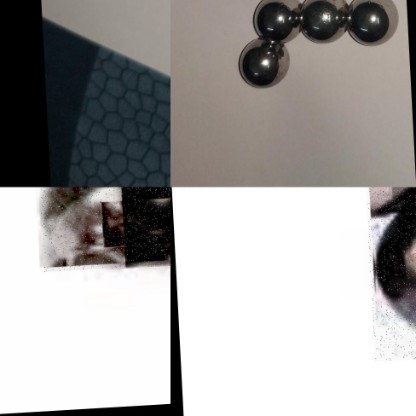ironball: (36, 187, 170, 274), (364, 187, 415, 363), (120, 187, 170, 271), (345, 0, 400, 52), (297, 0, 347, 50), (240, 40, 286, 90), (253, 0, 301, 45)
